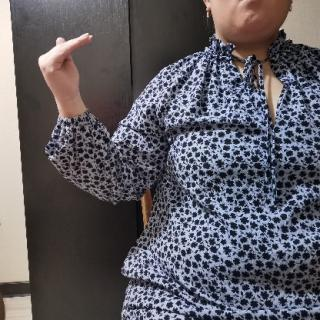KHAA: (36, 28, 110, 102)
